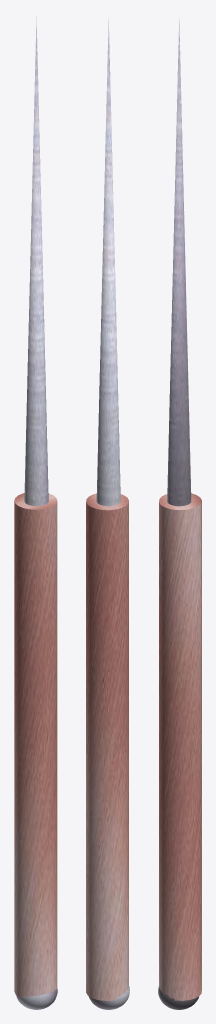
3 renders of one model, left to right at view 1: azimuth 90°, elevation 25°; view 2: azimuth 150°, elevation 25°; view 3: azimuth 330°, elevation 25°, orthographic.
Parts seen in each view (by area): view 1: TEMPORARY_IMPORT_NAMESPACE_针:pCylinder2S; view 2: TEMPORARY_IMPORT_NAMESPACE_针:pCylinder2S; view 3: TEMPORARY_IMPORT_NAMESPACE_针:pCylinder2S.
Part boxes in pixels (left/top/right/bottom): TEMPORARY_IMPORT_NAMESPACE_针:pCylinder2S: left=14, top=16, right=57, bottom=1009; TEMPORARY_IMPORT_NAMESPACE_针:pCylinder2S: left=86, top=18, right=129, bottom=1009; TEMPORARY_IMPORT_NAMESPACE_针:pCylinder2S: left=158, top=18, right=201, bottom=1009.
Bounding box in the file's own units: 0.1134 × 2.84 × 0.1124.
